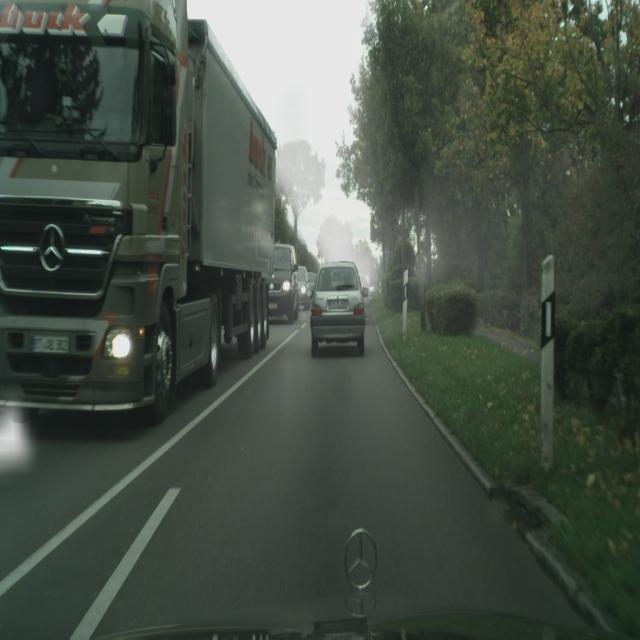car: (1, 2, 277, 429), (268, 242, 301, 324)
person: (309, 261, 366, 358), (268, 242, 300, 323), (296, 266, 310, 309)
